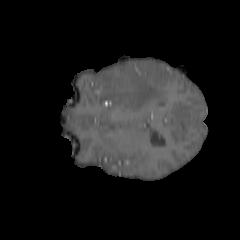glioma: (93, 60, 168, 112)
